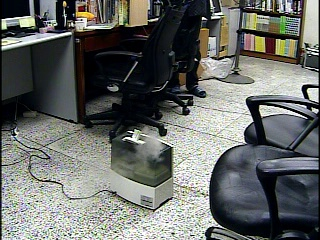smoke: (115, 129, 166, 172)
